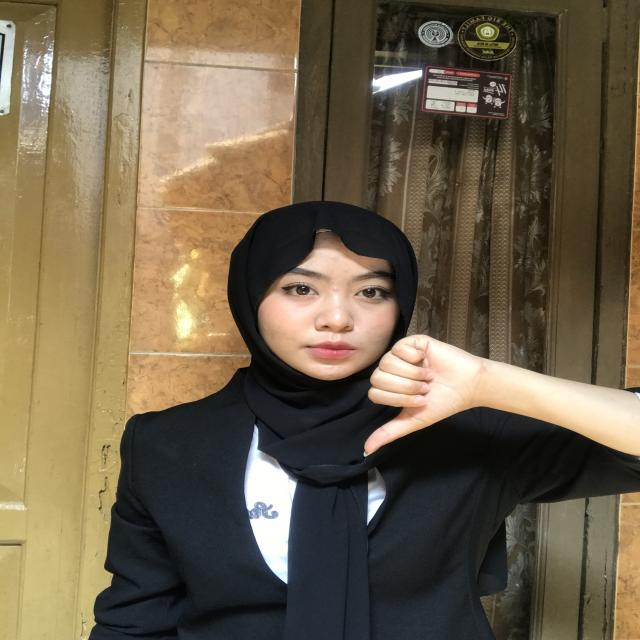sedih: (331, 294, 505, 489)
